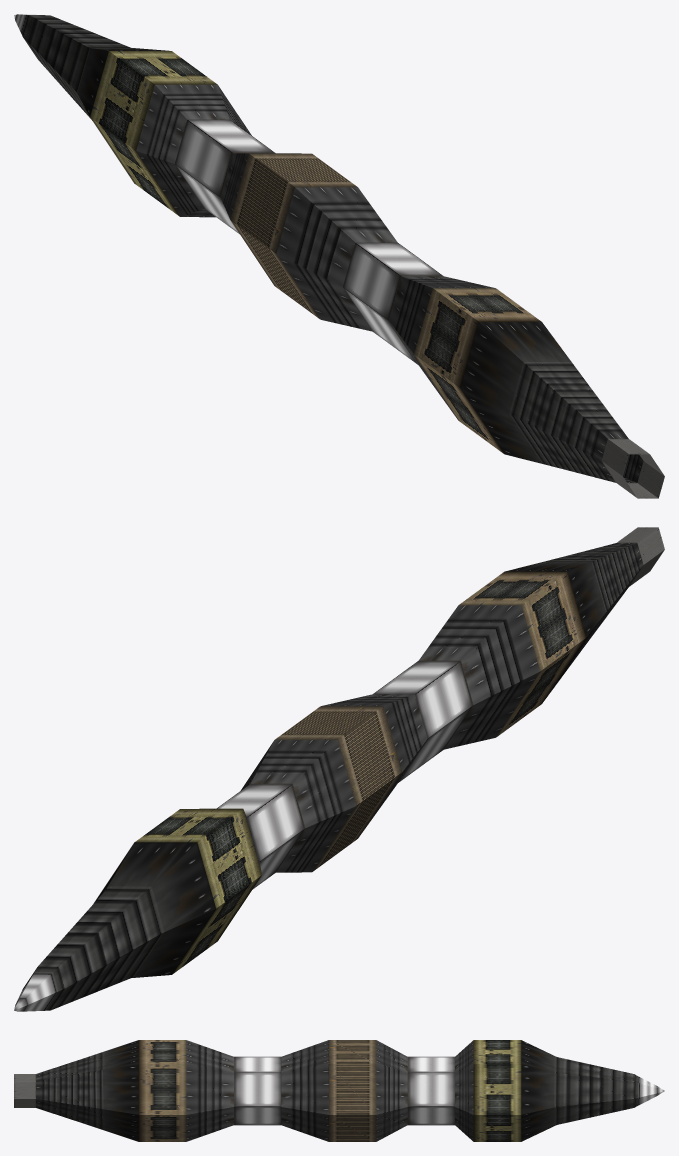
Rendered from bure5.fbx.
3 renders of one model, top to bottom at view 1: azimuth 30°, elevation 25°; view 2: azimuth 150°, elevation 25°; view 3: azimuth 270°, elevation 25°, orthographic. The views are drawn at different scales.
Parts seen in each view (by area): view 1: U3DMesh; view 2: U3DMesh; view 3: U3DMesh.
Boxes of the visible parts, <box> form: U3DMesh: <box>14,14,664,498</box>; U3DMesh: <box>14,527,664,1011</box>; U3DMesh: <box>14,1040,664,1141</box>.
Bounding box in the file's own units: 1.47 × 1.71 × 12.69.
1 material, 1 textured.
